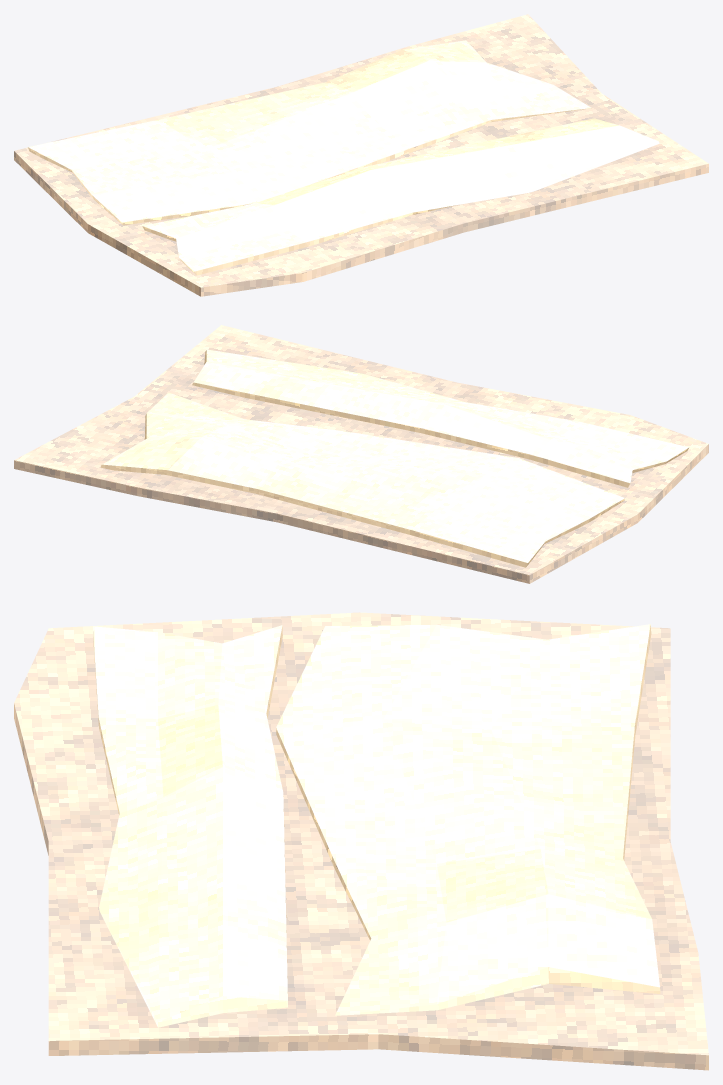
The model's file is Terrain_Var5.glb.
3 views of the same model, one above another, from view 1: azimuth 30°, elevation 25°; view 2: azimuth 150°, elevation 25°; view 3: azimuth 270°, elevation 25° (orthographic). The views are drawn at different scales.
Parts seen in each view (by area): view 1: Terrain_Variant_5; view 2: Terrain_Variant_5; view 3: Terrain_Variant_5.
Boxes of the visible parts, bbox=[...] form: Terrain_Variant_5: bbox=[14, 14, 708, 296]; Terrain_Variant_5: bbox=[14, 325, 708, 583]; Terrain_Variant_5: bbox=[14, 612, 708, 1070].
Bounding box in the file's own units: 11 × 0.6593 × 7.3.
